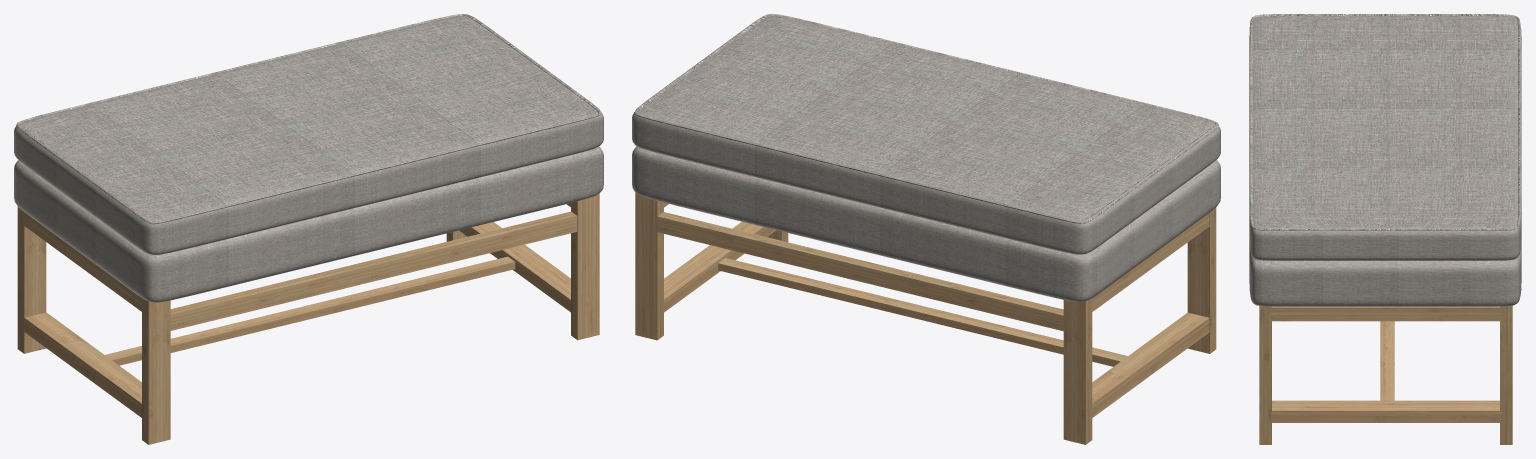
File: BedFootRest.fbx
3 renders of one model, left to right at view 1: azimuth 30°, elevation 25°; view 2: azimuth 150°, elevation 25°; view 3: azimuth 270°, elevation 25°, orthographic. The views are drawn at different scales.
Parts seen in each view (by area): view 1: pCube437; view 2: pCube437; view 3: pCube437.
Part boxes in pixels (<box>): pCube437: <box>14,14,603,444</box>; pCube437: <box>632,14,1220,444</box>; pCube437: <box>1249,14,1521,444</box>.
Bounding box in the file's own units: 8.59 × 4.02 × 4.55.
2 materials, 2 textured.
